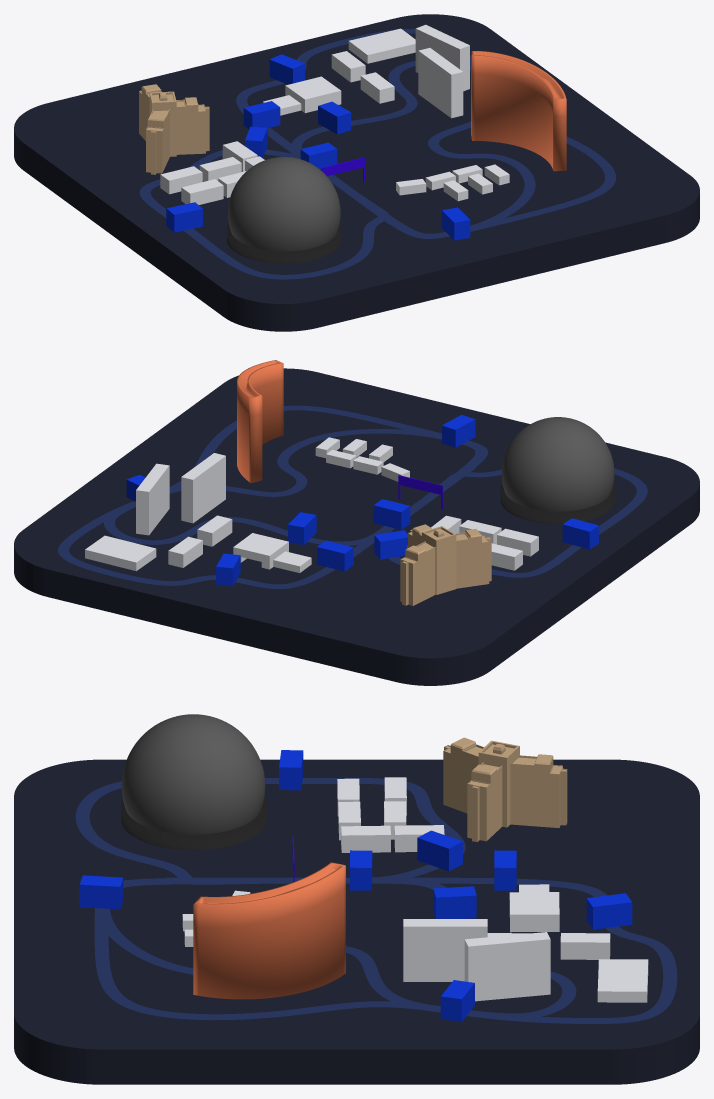
Rendered from World.glb.
3 views of the same model, one above another, from view 1: azimuth 30°, elevation 25°; view 2: azimuth 150°, elevation 25°; view 3: azimuth 270°, elevation 25° (orthographic). The views are drawn at different scales.
Visible parts, largest first — view 1: Cube.019, Cube.004, Plane.002, Sphere, Cylinder, Cube.001, Cylinder.001, Waterstation.004, Waterstation.006, Waterstation.001, Waterstation.007, Waterstation.003 (+2 smaller); view 2: Cube.019, Cube.004, Plane.002, Sphere, Cube.001, Cylinder, Cylinder.001, Waterstation.005, Waterstation.004, Waterstation.006, Waterstation.003, Waterstation.008 (+3 smaller); view 3: Cube.019, Cube.004, Cylinder, Plane.002, Sphere, Cube.001, Cylinder.001, Waterstation.001, Waterstation.008, Waterstation.003, Waterstation.007, Waterstation.002 (+3 smaller).
Boxes of the visible parts, <box> form: Cube.019: <box>14,14,699,331</box>; Cube.004: <box>160,24,509,204</box>; Plane.002: <box>139,29,615,279</box>; Sphere: <box>228,157,340,251</box>; Cylinder: <box>471,51,566,171</box>; Cube.001: <box>139,84,209,174</box>; Cylinder.001: <box>227,223,341,263</box>; Waterstation.004: <box>166,202,202,232</box>; Waterstation.006: <box>243,101,280,129</box>; Waterstation.001: <box>269,54,304,84</box>; Waterstation.007: <box>318,101,351,134</box>; Waterstation.003: <box>442,207,470,240</box>; Cube.019: <box>14,368,699,685</box>; Cube.004: <box>85,437,538,572</box>; Plane.002: <box>58,405,647,588</box>; Sphere: <box>501,417,614,511</box>; Cube.001: <box>400,524,491,605</box>; Cylinder: <box>237,360,283,483</box>; Cylinder.001: <box>500,483,614,523</box>; Waterstation.005: <box>373,499,410,529</box>; Waterstation.004: <box>562,518,598,549</box>; Waterstation.006: <box>317,540,353,571</box>; Waterstation.003: <box>442,414,475,447</box>; Waterstation.008: <box>374,530,407,559</box>; Cube.019: <box>14,759,699,1084</box>; Cube.004: <box>182,777,648,1002</box>; Cylinder: <box>193,862,345,999</box>; Plane.002: <box>75,778,677,1023</box>; Sphere: <box>121,714,265,834</box>; Cube.001: <box>443,737,567,842</box>; Cylinder.001: <box>121,798,266,850</box>; Waterstation.001: <box>586,893,632,929</box>; Waterstation.008: <box>417,830,462,871</box>; Waterstation.003: <box>79,875,123,909</box>; Waterstation.007: <box>433,886,476,918</box>; Waterstation.002: <box>440,980,474,1021</box>.
Bounding box in the file's own units: 16.31 × 3.75 × 16.31.
